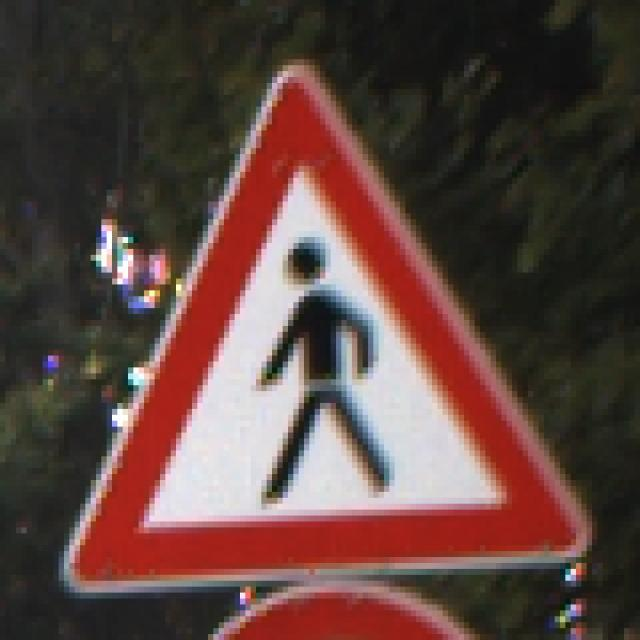pedestrian crossing: (57, 61, 584, 559)
